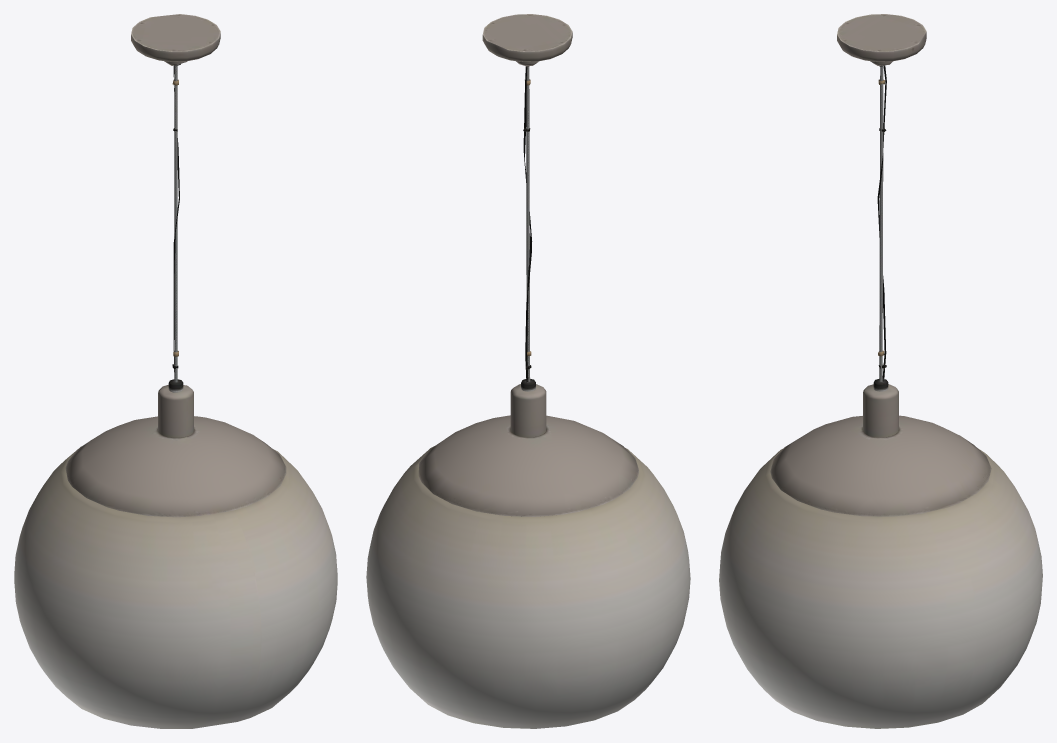
File: modern_ceiling_lamp_01.glb
The picture shows the model from 3 angles, left to right: view 1: azimuth 30°, elevation 25°; view 2: azimuth 150°, elevation 25°; view 3: azimuth 270°, elevation 25°; orthographic projection.
Parts seen in each view (by area): view 1: modern_ceiling_lamp_01; view 2: modern_ceiling_lamp_01; view 3: modern_ceiling_lamp_01.
Part boxes in pixels (x1=…): modern_ceiling_lamp_01: x1=14, y1=14, x2=337, y2=728; modern_ceiling_lamp_01: x1=366, y1=14, x2=690, y2=728; modern_ceiling_lamp_01: x1=719, y1=14, x2=1042, y2=728.
Bounding box in the file's own units: 0.4316 × 0.9512 × 0.4316.
Materials: 2 (2 with a texture image).
